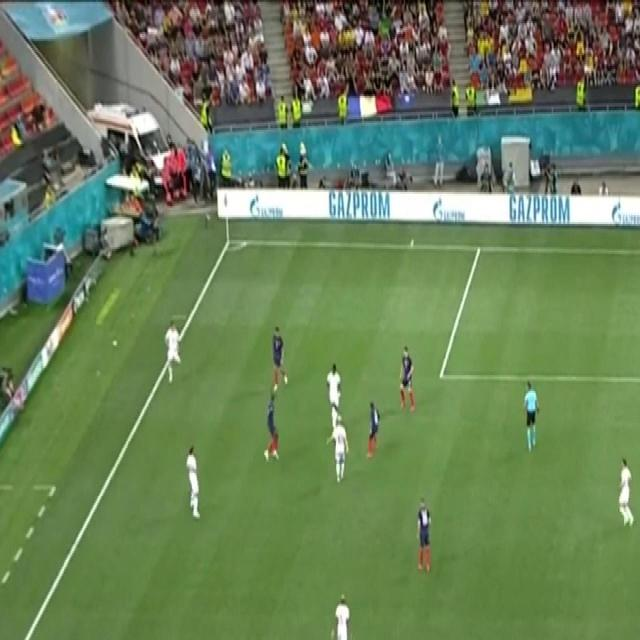player-white: (325, 412, 350, 487), (521, 378, 541, 456), (183, 440, 202, 522), (397, 344, 418, 418), (161, 318, 183, 388), (413, 495, 432, 575), (616, 456, 636, 531), (261, 390, 281, 464), (268, 322, 288, 395), (325, 360, 343, 432), (366, 397, 382, 464), (329, 592, 351, 640)
